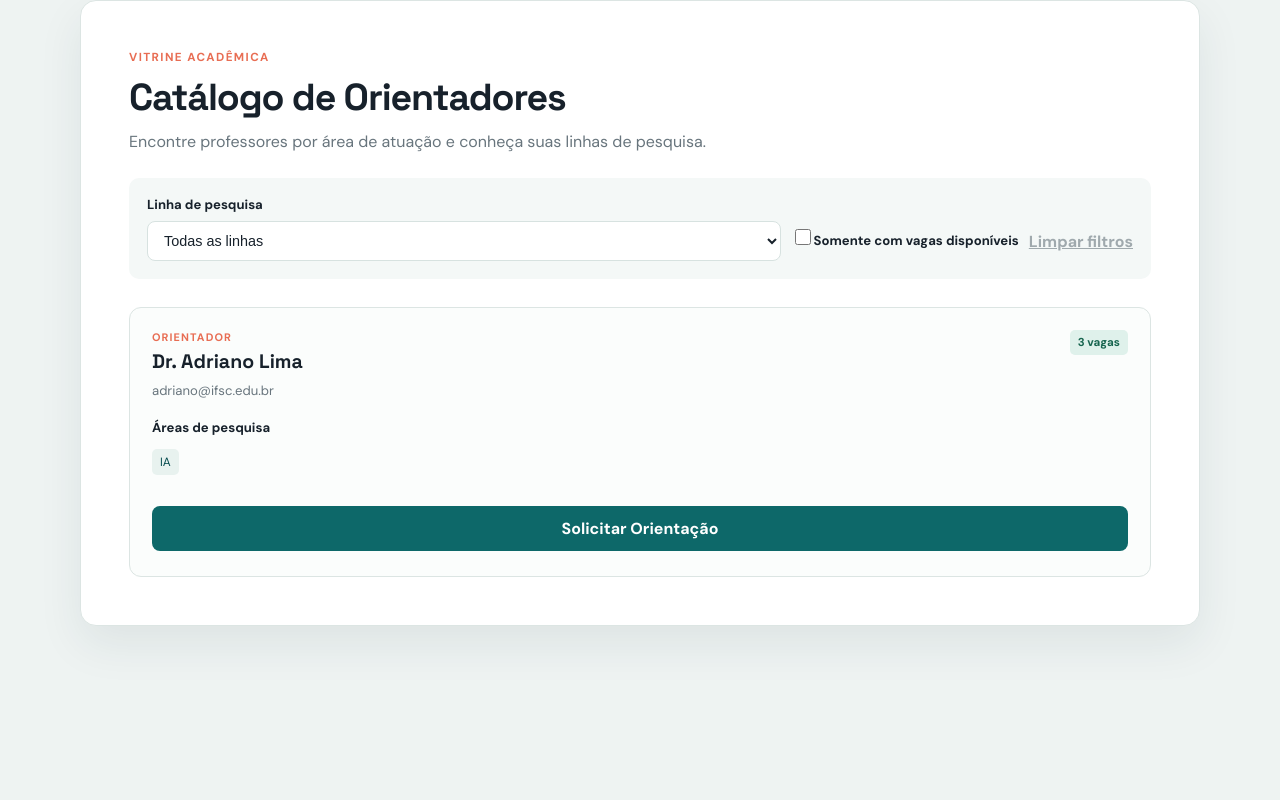
Test case: OrientadorList › deve exibir sugestão para ajustar ou limpar os filtros quando a busca filtrada não retornar resultados
Select "IA" in the dropdown labelled "Linha de pesquisa": (464, 241) [147, 221, 781, 261]
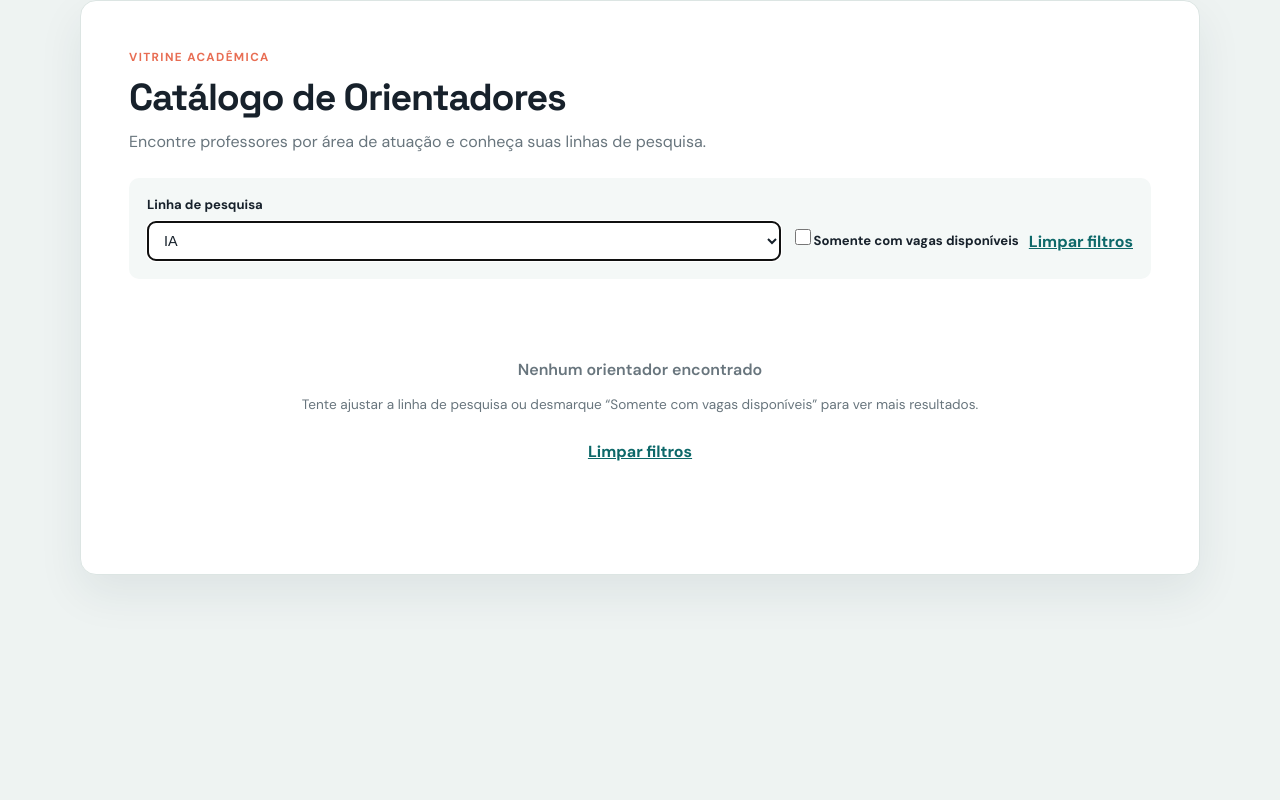
expect the text "Nenhum orientador encontrado" is shown: met, box [518, 359, 762, 380]
expect the text "Tente ajustar a linha de pesquisa" is shown: met, box [302, 396, 978, 413]
expect the button "Limpar filtros" below "Nenhum orientador encontrado" is shown: met, box [588, 441, 692, 462]
